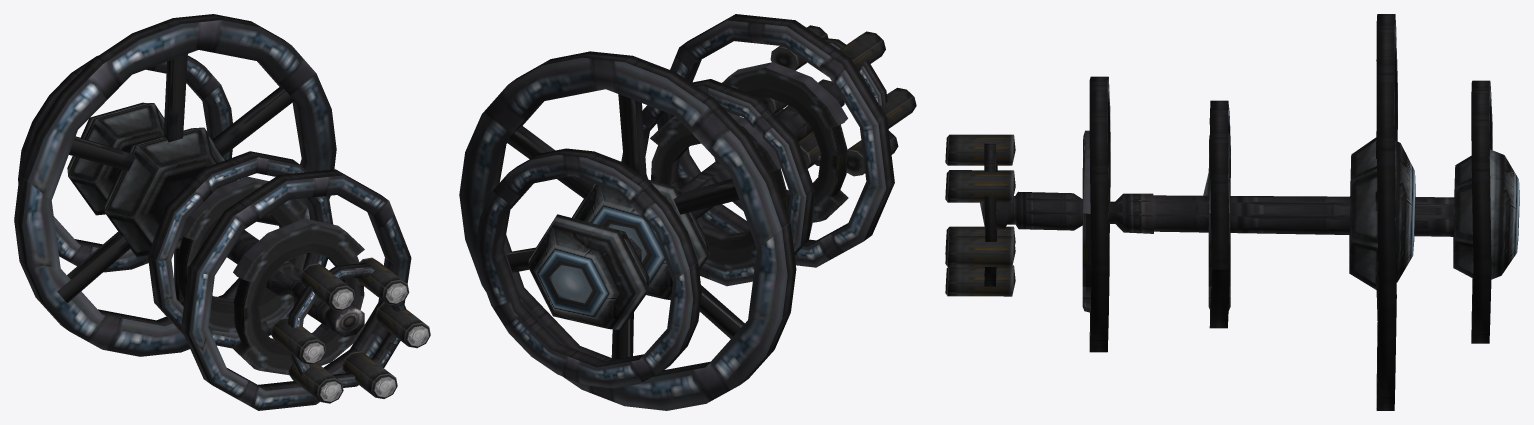
File: ts_xgcj004.FBX
3 renders of one model, left to right at view 1: azimuth 30°, elevation 25°; view 2: azimuth 150°, elevation 25°; view 3: azimuth 270°, elevation 25°, orthographic. The views are drawn at different scales.
Visible parts, largest first — view 1: ts_xgcj004; view 2: ts_xgcj004; view 3: ts_xgcj004.
Boxes of the visible parts, bbox=[...] form: ts_xgcj004: bbox=[14, 14, 430, 410]; ts_xgcj004: bbox=[459, 14, 916, 410]; ts_xgcj004: bbox=[945, 14, 1519, 410].
Size of the model in its own units: 0.4051 by 0.4049 by 0.5835.
